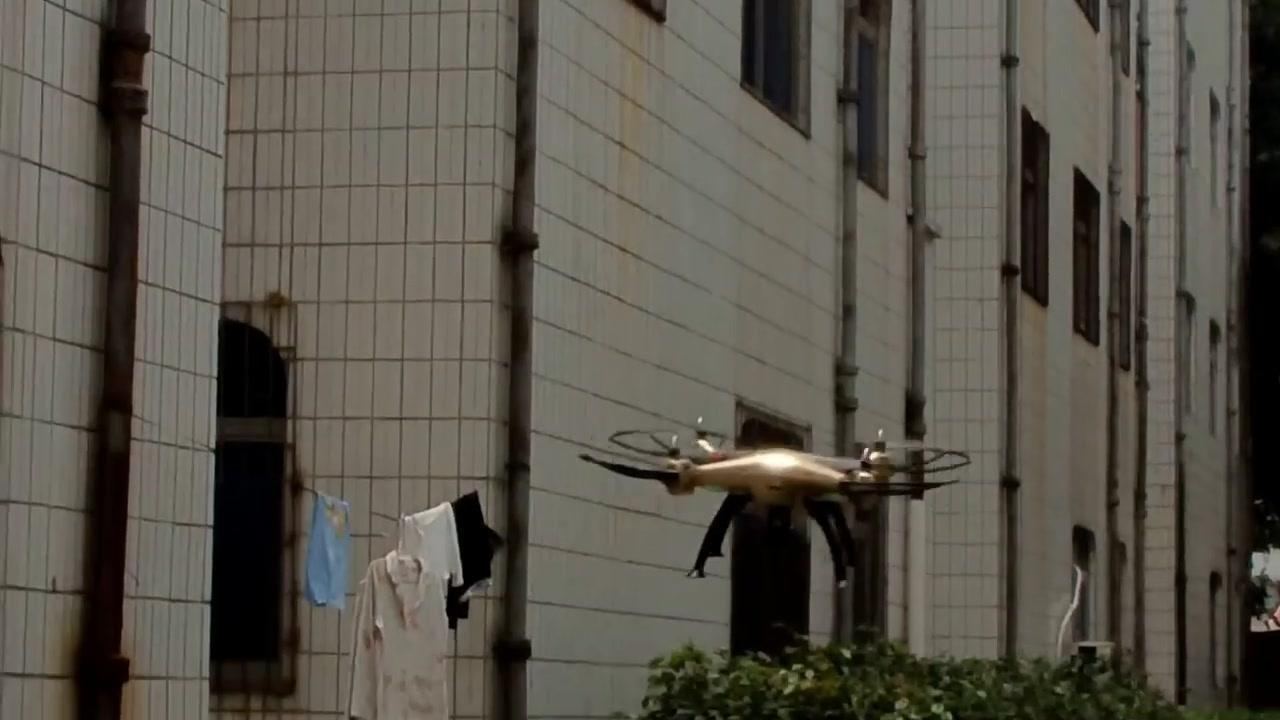UAV: (591, 424, 971, 582)
